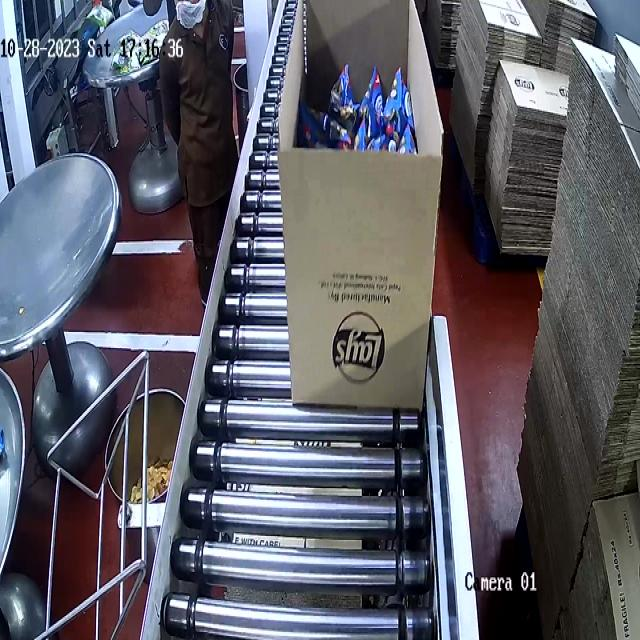PAPRIKA: (298, 58, 424, 158)
